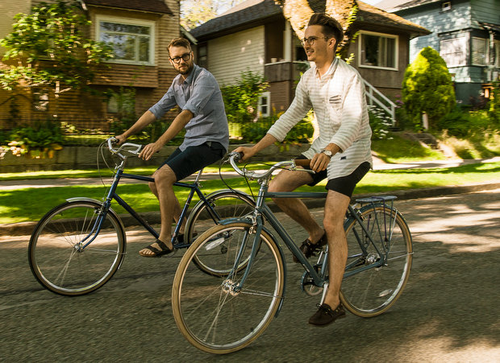bikerider: (161, 11, 423, 361), (26, 36, 265, 290)
